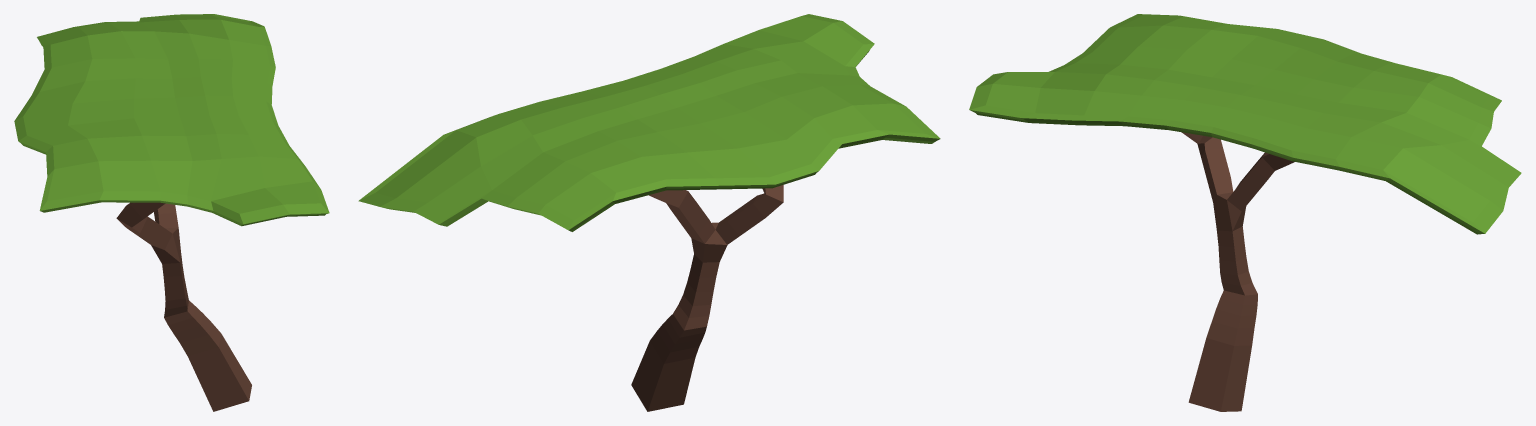
Rendered from Level 4 tree 2.glb.
3 views of the same model, side by side, from view 1: azimuth 30°, elevation 25°; view 2: azimuth 150°, elevation 25°; view 3: azimuth 270°, elevation 25° (orthographic). The views are drawn at different scales.
Parts seen in each view (by area): view 1: Plane.001; view 2: Plane.001; view 3: Plane.001.
Boxes of the visible parts, x1,y1,x2,y2 form: Plane.001: (14,14,329,411); Plane.001: (358,14,940,411); Plane.001: (969,14,1521,411).
Size of the model in its own units: 11.98 by 9.09 by 14.64.
